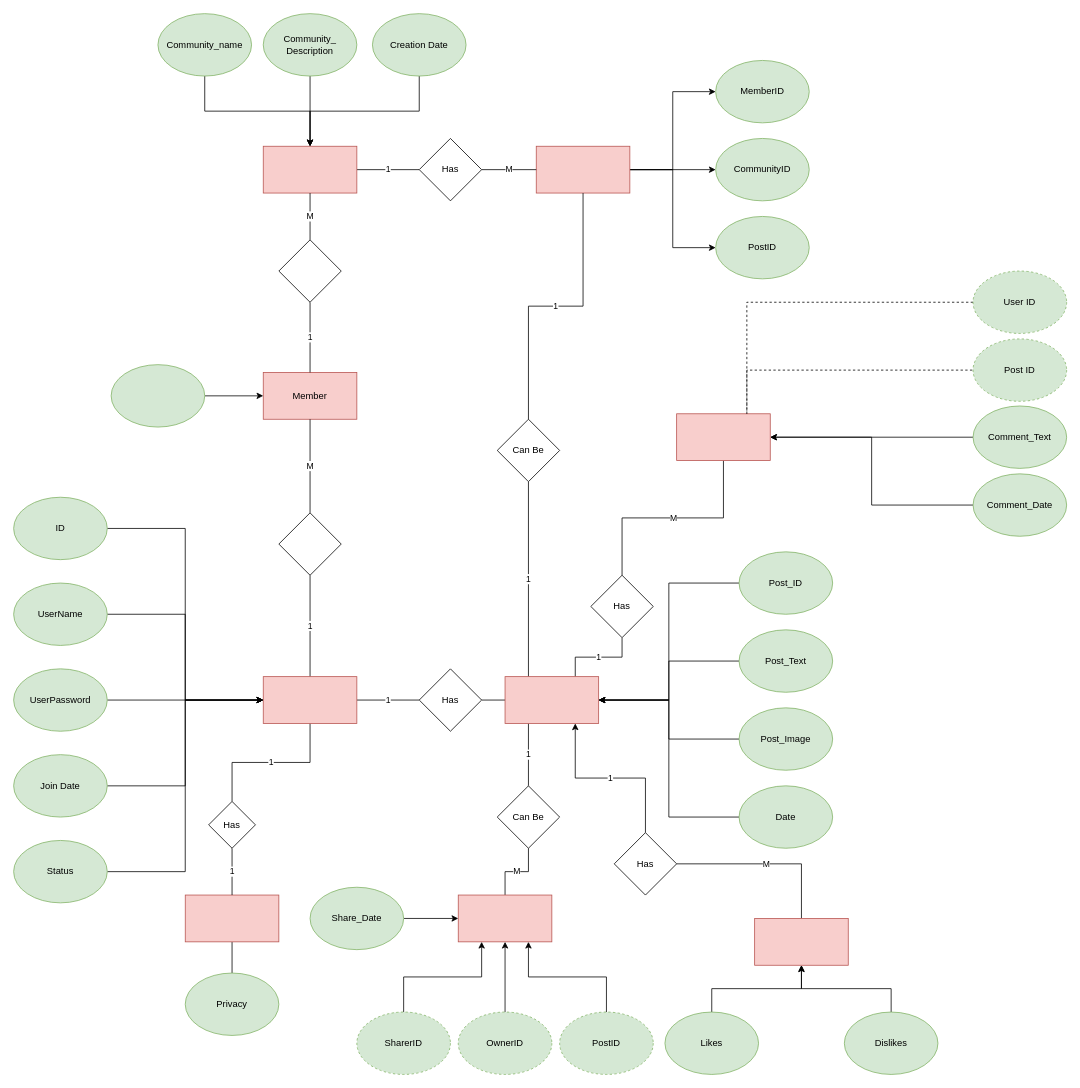
The diagram is 1080 pixels wide and 1088 high, and some of its shapes have lost their labels. The shapes that lost their labels are listed below. From the top down, each one's centre as x and y in pixels, then its label:
At point 309,169: "Community".
At point 582,169: "Community_Post".
At point 309,270: "In".
At point 157,395: "JoinDate".
At point 723,437: "Comments".
At point 309,543: "Is".
At point 309,699: "User".
At point 551,699: "Posts".
At point 231,918: "Account Settings".
At point 504,918: "Shared Post".
At point 801,941: "Interactions".
